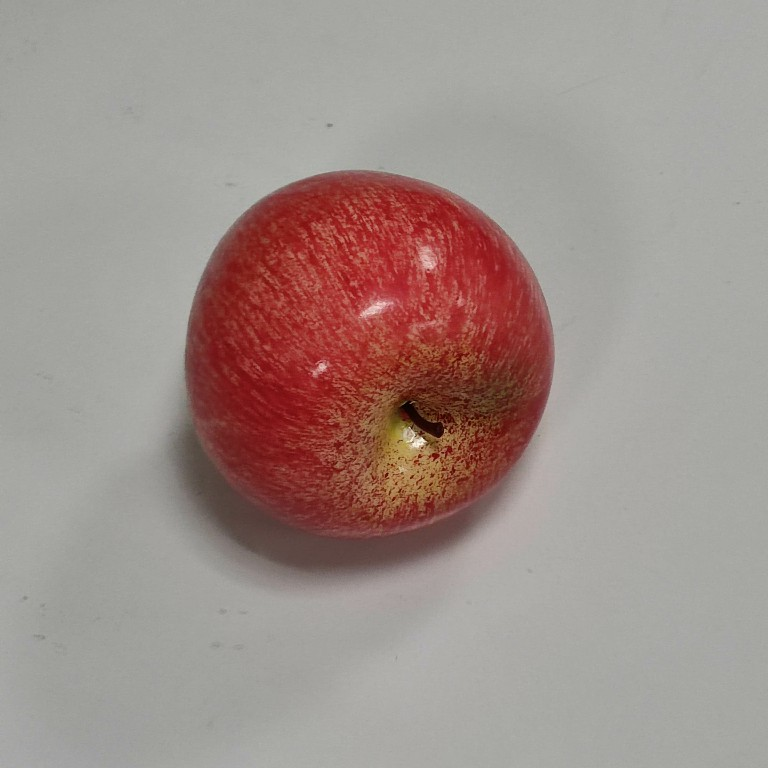fruit_apple: (175, 167, 560, 548)
